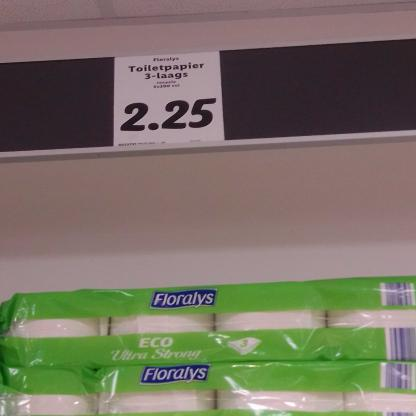prtg: (114, 52, 225, 147)
